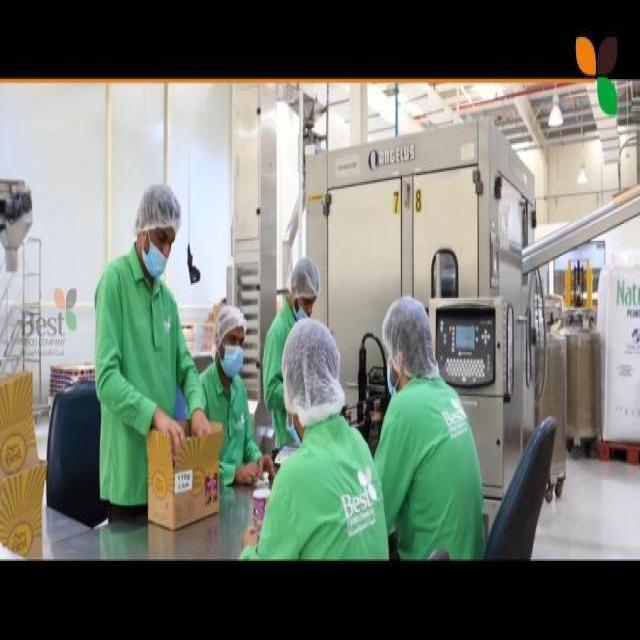bare_hand: (146, 403, 186, 451), (184, 409, 215, 445), (233, 451, 258, 487), (253, 441, 274, 482), (238, 519, 262, 552)
